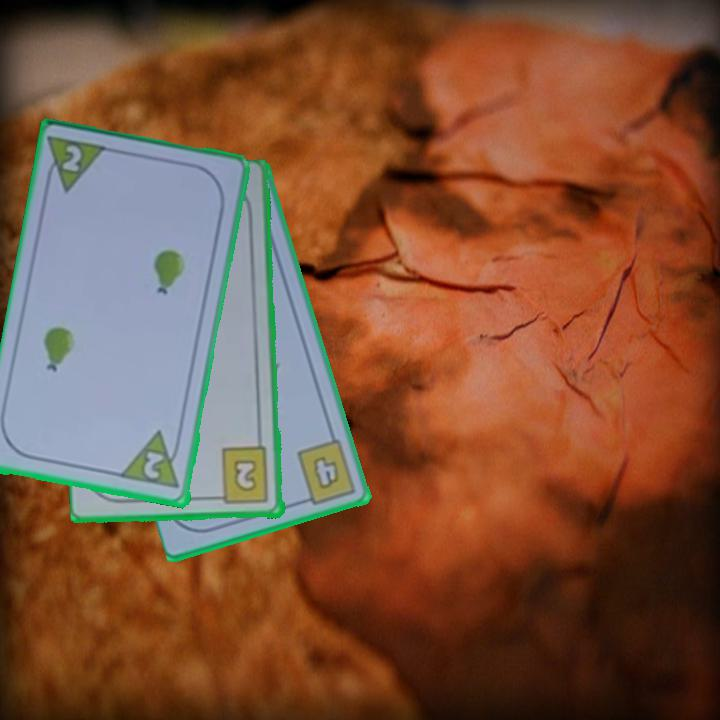2b: (211, 444, 272, 507)
2p: (41, 132, 112, 197), (140, 448, 168, 483)
4b: (293, 436, 360, 508)
